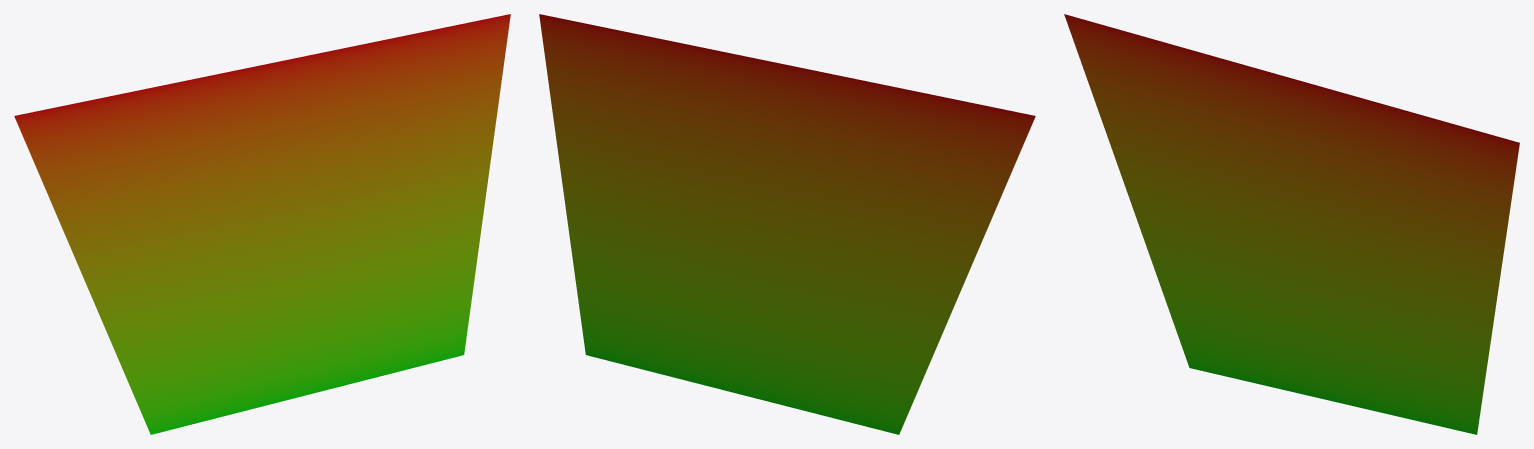
Rendered from White Everlasting_LOD5_Var12_ucvobbbia.fbx.
The picture shows the model from 3 angles, left to right: view 1: azimuth 30°, elevation 25°; view 2: azimuth 150°, elevation 25°; view 3: azimuth 330°, elevation 25°; orthographic projection. The views are drawn at different scales.
Visible parts, largest first — view 1: _59b9_Var12_LOD5; view 2: _59b9_Var12_LOD5; view 3: _59b9_Var12_LOD5.
Part boxes in pixels (box(x1,y1,x2,y2)): _59b9_Var12_LOD5: box(14, 14, 510, 434); _59b9_Var12_LOD5: box(539, 14, 1035, 434); _59b9_Var12_LOD5: box(1064, 14, 1519, 434).
Size of the model in its own units: 18.95 by 12.85 by 1.91e-06.
